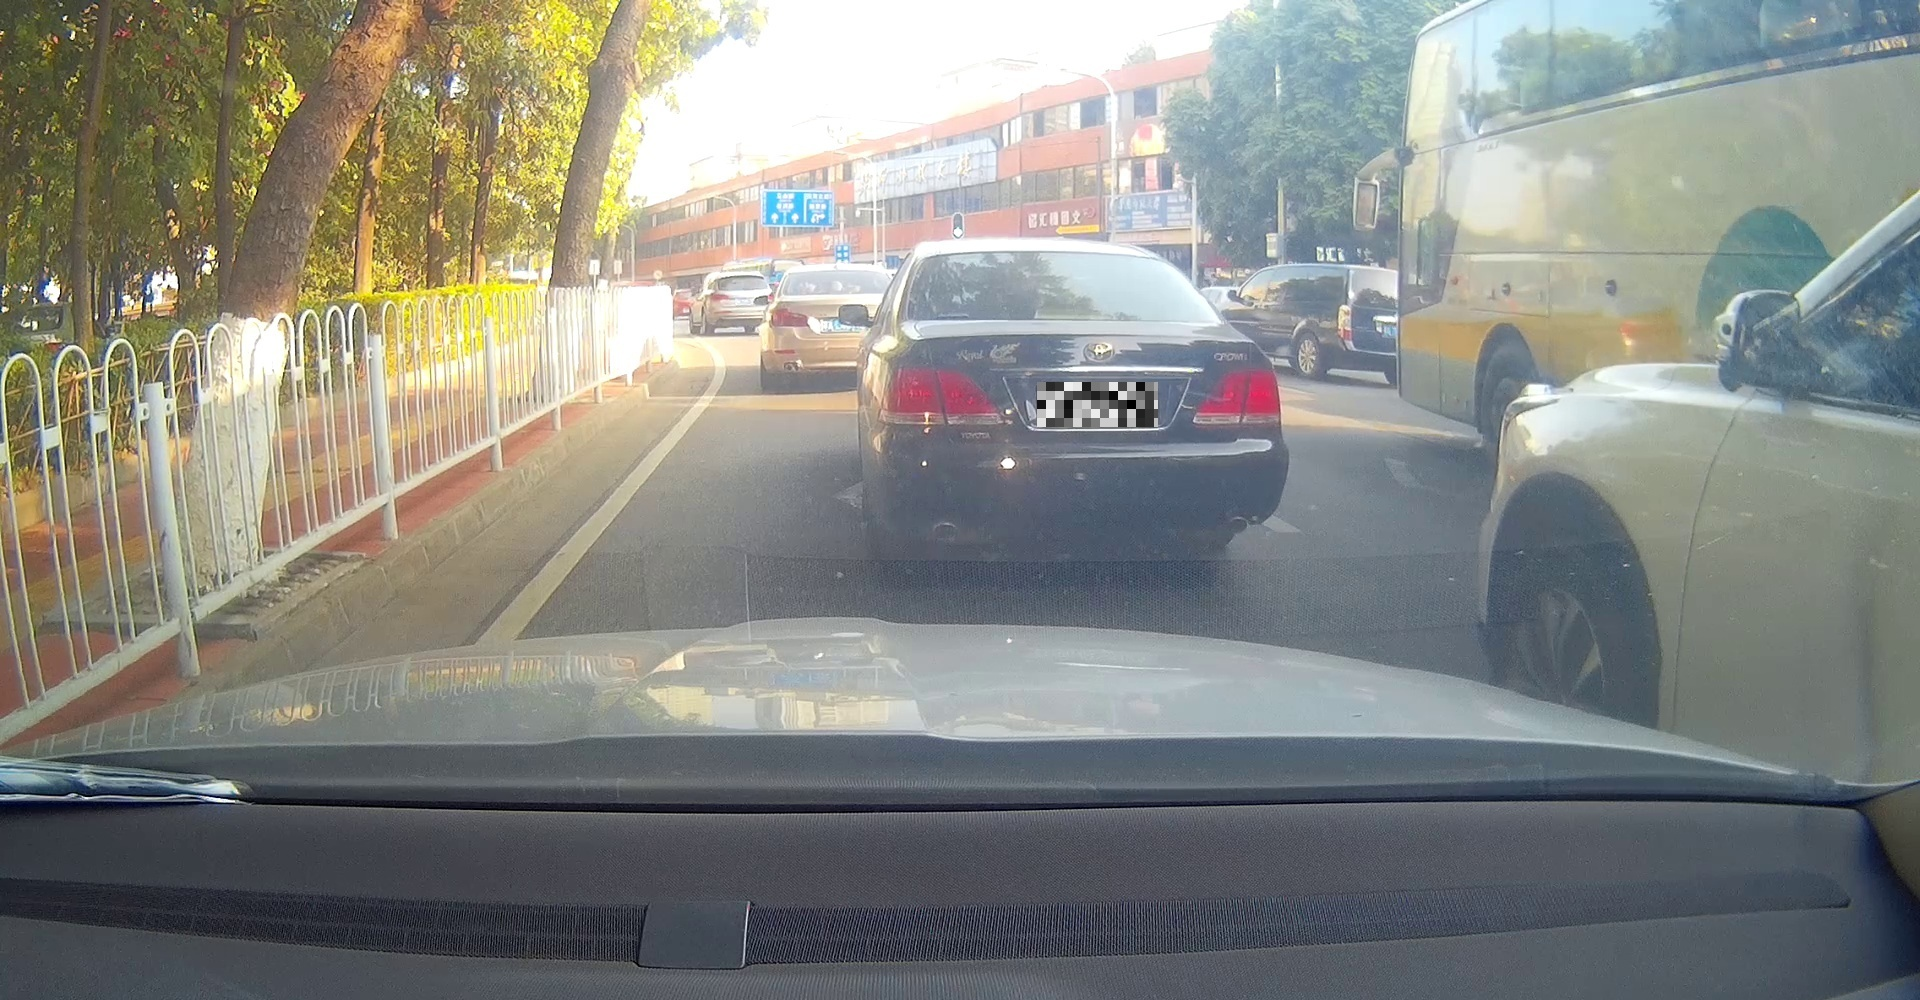L_light: (876, 365, 1004, 426)
R_light: (1191, 368, 1281, 426)
T_light: (1034, 308, 1117, 321)
day-no: (872, 237, 1290, 581)
plate_1: (1037, 382, 1158, 426)
